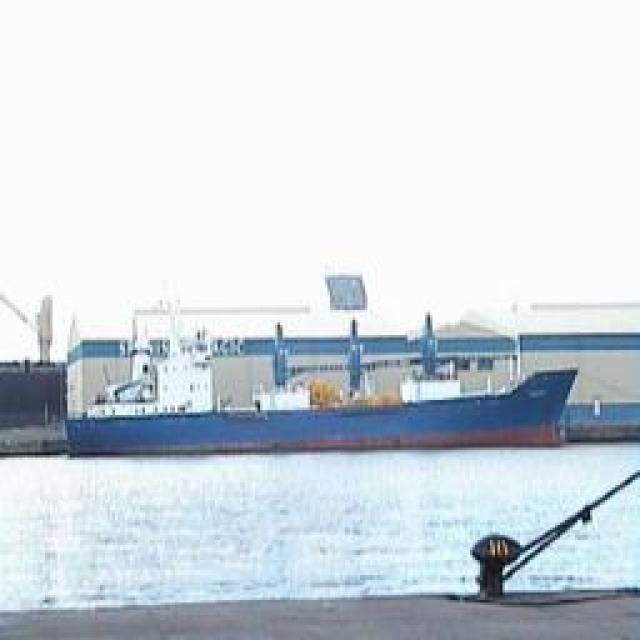CIV_Ship: (66, 307, 572, 455)
